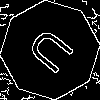U: (25, 25, 84, 82)
